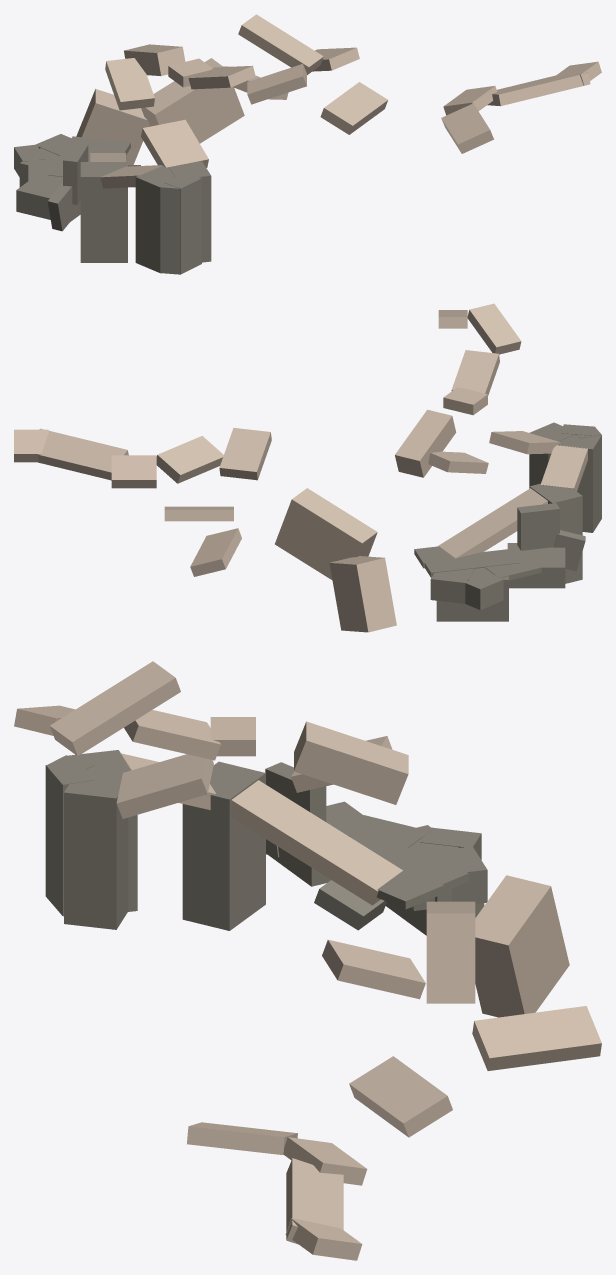
The model's file is p_DeadEnddPt2.fbx.
The picture shows the model from 3 angles, top to bottom: view 1: azimuth 30°, elevation 25°; view 2: azimuth 150°, elevation 25°; view 3: azimuth 270°, elevation 25°; orthographic projection. The views are drawn at different scales.
Parts seen in each view (by area): view 1: Wall_Smell__146_, SmellRamp_1__18_, SmellRamp_1__33_, Wall_Smell__147_, SmellRamp_1__37_, Wall_Smell__150_, SmellRamp_1__43_, SmellRamp_1__31_, SmellRamp_1__38_, Wall_Smell__149_, SmellRamp_1__28_, SmellRamp_1__30_ (+18 smaller); view 2: SmellRamp_1__18_, SmellRamp_1__33_, SmellRamp_1__35_, SmellRamp_1__28_, SmellRamp_1__39_, SmellRamp_1__34_, Wall_Smell__147_, SmellRamp_1__30_, Wall_Smell__132_, Wall_Smell__59_, Wall_Smell__146_, SmellRamp_1__42_ (+18 smaller); view 3: Wall_Smell__146_, SmellRamp_1__33_, Wall_Smell__148_, SmellRamp_1__35_, SmellRamp_1__32_, SmellRamp_1__39_, SmellRamp_1__43_, SmellRamp_1__18_, SmellRamp_1__31_, SmellRamp_1__37_, SmellRamp_1__34_, SmellRamp_1__28_ (+17 smaller).
Part boxes in pixels (x1,y1,x2,y2): Wall_Smell__146_: [80, 162, 127, 262]; SmellRamp_1__18_: [141, 58, 244, 143]; SmellRamp_1__33_: [76, 89, 149, 164]; Wall_Smell__147_: [135, 166, 174, 272]; SmellRamp_1__37_: [141, 119, 208, 167]; Wall_Smell__150_: [164, 172, 201, 274]; SmellRamp_1__43_: [238, 14, 323, 74]; SmellRamp_1__31_: [320, 82, 387, 134]; SmellRamp_1__38_: [105, 58, 154, 110]; Wall_Smell__149_: [160, 177, 180, 274]; SmellRamp_1__28_: [487, 72, 590, 106]; SmellRamp_1__30_: [441, 103, 493, 153]; SmellRamp_1__18_: [275, 488, 377, 579]; SmellRamp_1__33_: [329, 556, 396, 632]; SmellRamp_1__35_: [437, 488, 547, 558]; SmellRamp_1__28_: [37, 428, 128, 480]; SmellRamp_1__39_: [395, 409, 456, 477]; SmellRamp_1__34_: [219, 427, 271, 480]; Wall_Smell__147_: [548, 434, 601, 532]; SmellRamp_1__30_: [156, 436, 223, 483]; Wall_Smell__132_: [517, 503, 559, 550]; Wall_Smell__59_: [507, 543, 565, 588]; Wall_Smell__146_: [529, 483, 582, 583]; SmellRamp_1__42_: [467, 303, 521, 354]; Wall_Smell__146_: [182, 761, 265, 930]; SmellRamp_1__33_: [475, 875, 569, 1017]; Wall_Smell__148_: [64, 771, 128, 929]; SmellRamp_1__35_: [231, 780, 402, 905]; SmellRamp_1__32_: [472, 1006, 601, 1070]; SmellRamp_1__39_: [294, 721, 408, 804]; SmellRamp_1__43_: [50, 661, 180, 756]; SmellRamp_1__18_: [426, 901, 475, 1003]; SmellRamp_1__31_: [349, 1056, 452, 1137]; SmellRamp_1__37_: [116, 754, 213, 818]; SmellRamp_1__34_: [322, 939, 425, 999]; SmellRamp_1__28_: [286, 1158, 343, 1244].
Bounding box in the file's own units: 5611 × 2177 × 3242.
